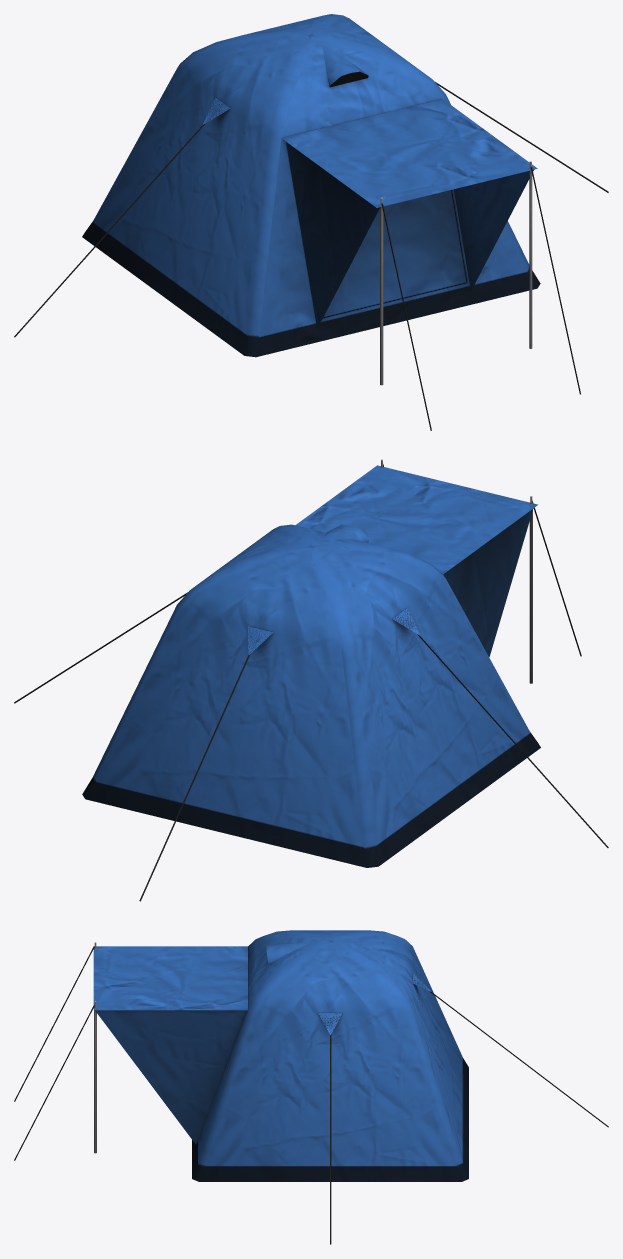
Rendered from tent.FBX.
The picture shows the model from 3 angles, top to bottom: view 1: azimuth 30°, elevation 25°; view 2: azimuth 150°, elevation 25°; view 3: azimuth 270°, elevation 25°; orthographic projection. The views are drawn at different scales.
Visible parts, largest first — view 1: tent; view 2: tent; view 3: tent.
Boxes of the visible parts, x1,y1,x2,y2 form: tent: (14, 14, 608, 430); tent: (14, 459, 608, 901); tent: (14, 930, 608, 1244).
Bounding box in the file's own units: 401 × 151 × 429.
